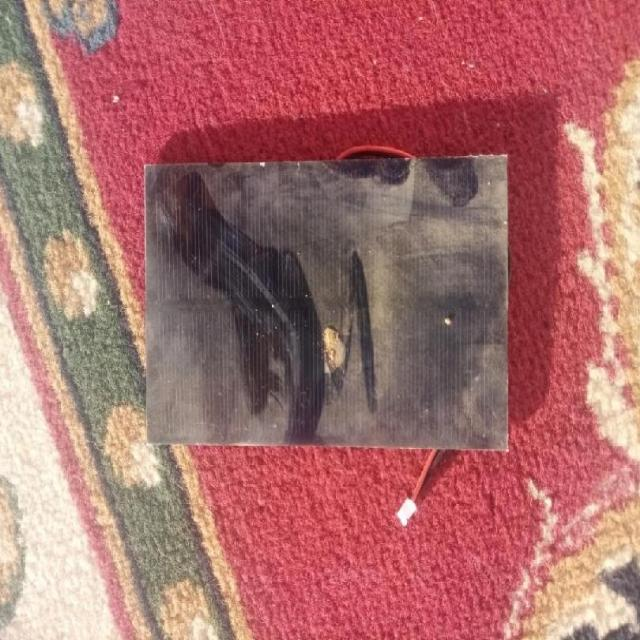faulty: (137, 156, 508, 460)
